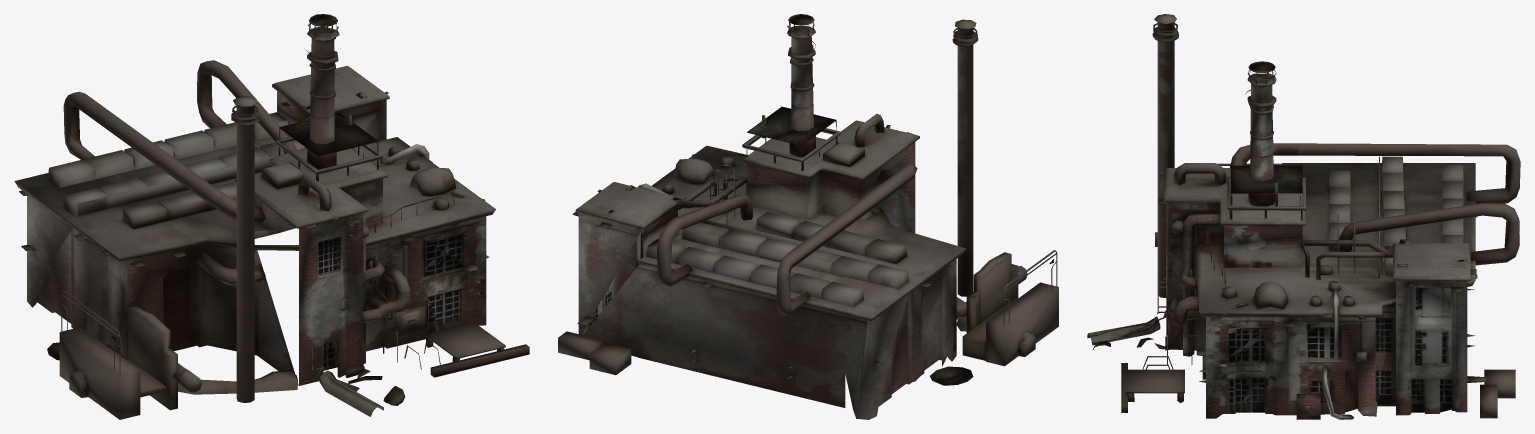
The model's file is abandoned_industrial_block.glb.
3 views of the same model, side by side, from view 1: azimuth 30°, elevation 25°; view 2: azimuth 150°, elevation 25°; view 3: azimuth 270°, elevation 25° (orthographic). The views are drawn at different scales.
Visible parts, largest first — view 1: tripo_node_fe627e36-3d39-4da3-a1c4-3d347d575d2b; view 2: tripo_node_fe627e36-3d39-4da3-a1c4-3d347d575d2b; view 3: tripo_node_fe627e36-3d39-4da3-a1c4-3d347d575d2b.
Part boxes in pixels (x1=…): tripo_node_fe627e36-3d39-4da3-a1c4-3d347d575d2b: x1=14, y1=14, x2=529, y2=419; tripo_node_fe627e36-3d39-4da3-a1c4-3d347d575d2b: x1=558, y1=14, x2=1058, y2=419; tripo_node_fe627e36-3d39-4da3-a1c4-3d347d575d2b: x1=1087, y1=14, x2=1520, y2=419.
Bounding box in the file's own units: 0.998 × 0.748 × 0.998.
Materials: 1 (1 with a texture image).
